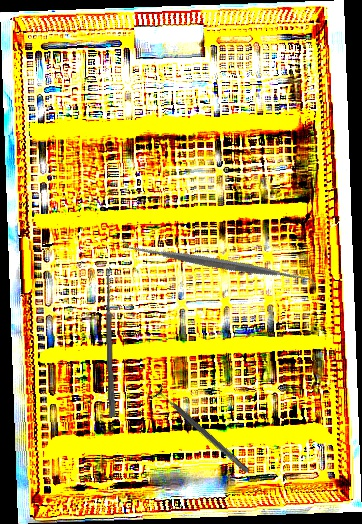Fixation Ring: (146, 381, 255, 480)
Spatula Surgical: (120, 165, 318, 361)
Surgical Spoon: (103, 267, 117, 418)
